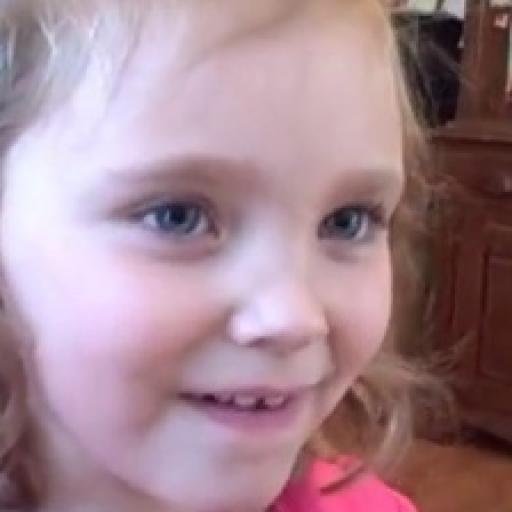Autism: (17, 18, 420, 512)
